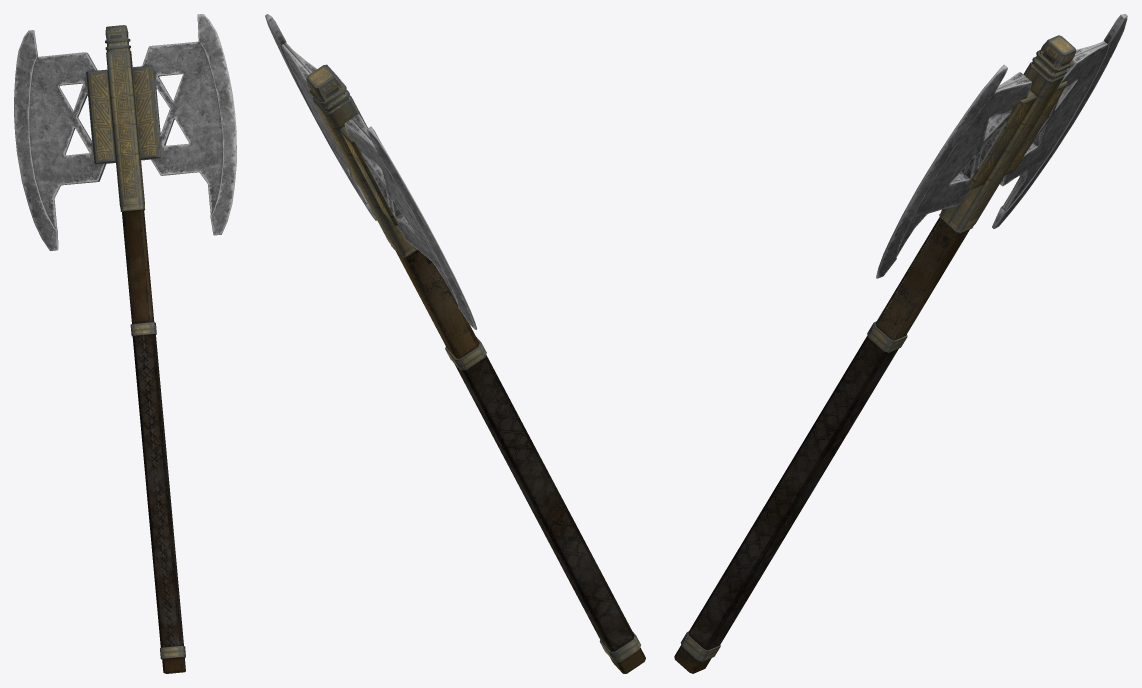
File: w_double_axe.glb
3 views of the same model, side by side, from view 1: azimuth 30°, elevation 25°; view 2: azimuth 150°, elevation 25°; view 3: azimuth 270°, elevation 25° (orthographic). The views are drawn at different scales.
Parts seen in each view (by area): view 1: defaultMaterial; view 2: defaultMaterial; view 3: defaultMaterial.
Boxes of the visible parts, x1=… form: defaultMaterial: x1=14, y1=14, x2=236, y2=673; defaultMaterial: x1=265, y1=14, x2=645, y2=673; defaultMaterial: x1=674, y1=14, x2=1127, y2=673.
Bounding box in the file's own units: 0.3734 × 1.14 × 0.6735.
Materials: 1 (1 with a texture image).
